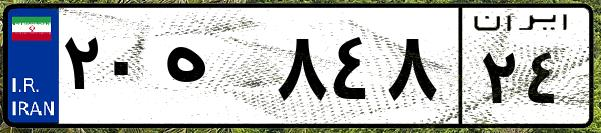0: (110, 28, 158, 98)
2: (57, 26, 110, 100), (475, 38, 525, 113)
4: (330, 28, 385, 110), (525, 38, 570, 115)
8: (270, 28, 330, 110), (385, 28, 445, 110)
ه: (158, 20, 270, 120)
